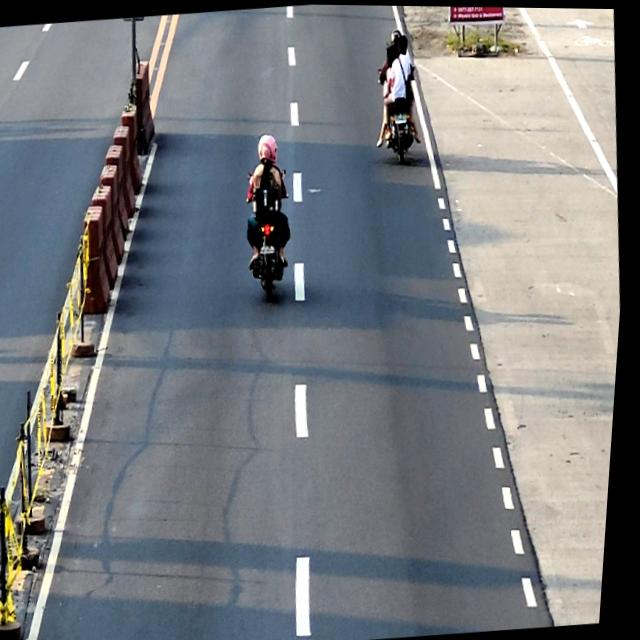License-Plate: (394, 112, 408, 122), (263, 244, 278, 253)
Motorcycle: (242, 167, 301, 305), (373, 61, 423, 161)
